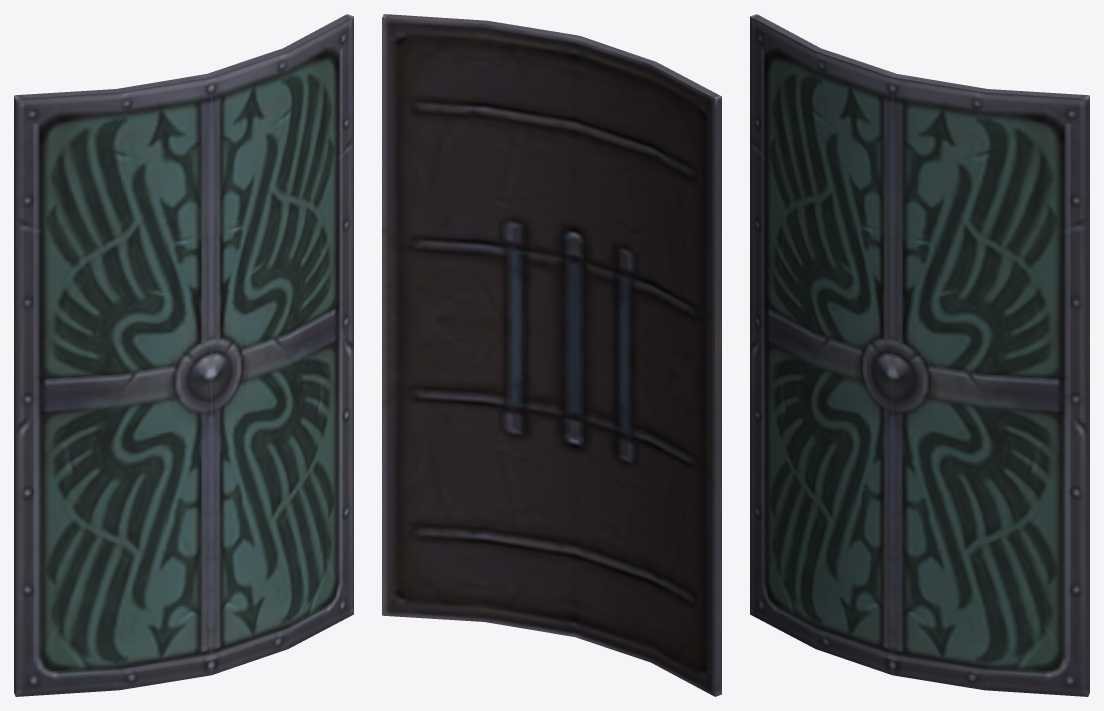
Rendered from Shield18.FBX.
3 views of the same model, side by side, from view 1: azimuth 30°, elevation 25°; view 2: azimuth 150°, elevation 25°; view 3: azimuth 330°, elevation 25° (orthographic).
Parts seen in each view (by area): view 1: Shield18; view 2: Shield18; view 3: Shield18.
Part boxes in pixels (bbox=[...]): Shield18: bbox=[14, 14, 353, 696]; Shield18: bbox=[382, 14, 721, 696]; Shield18: bbox=[750, 14, 1089, 696].
Size of the model in its own units: 60.53 by 102 by 9.61.
